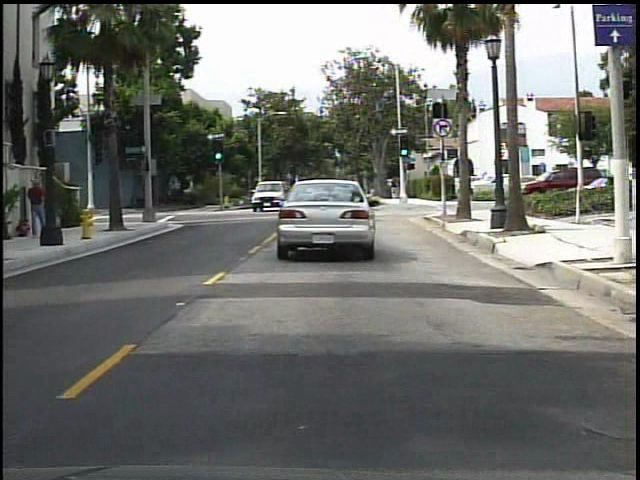person: (23, 176, 51, 243)
